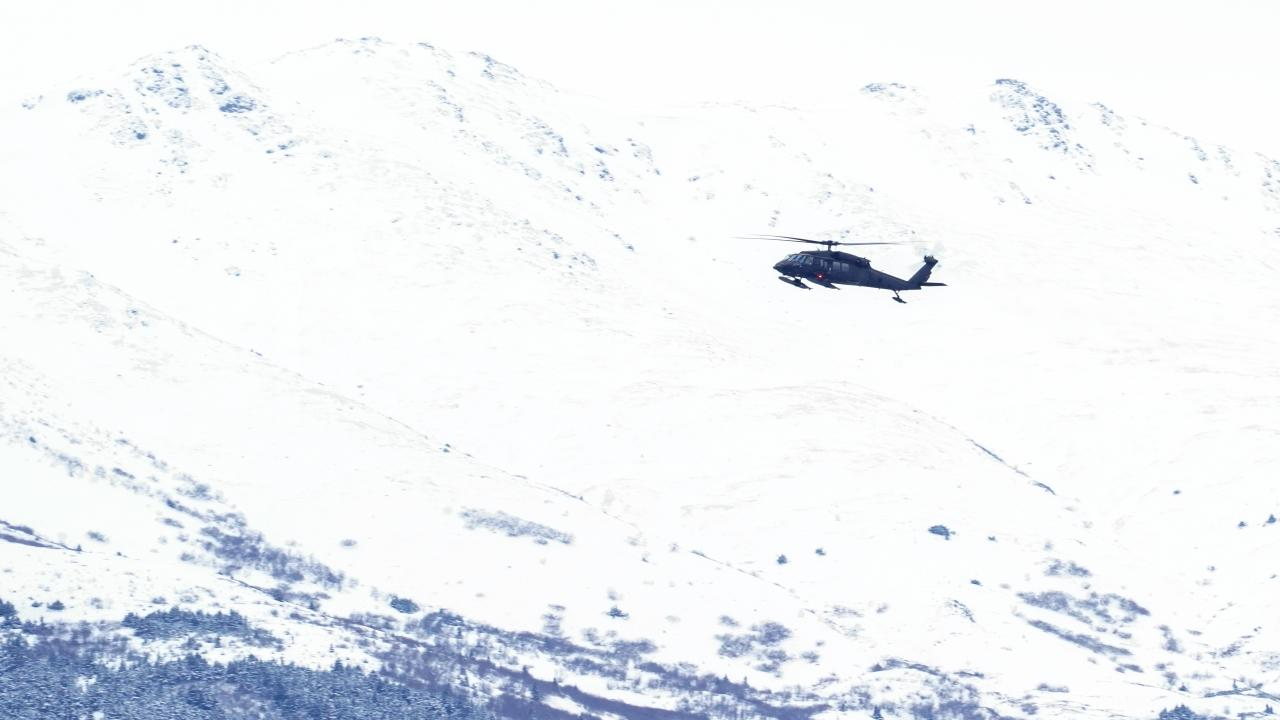Helicopter: (747, 220, 969, 305)
